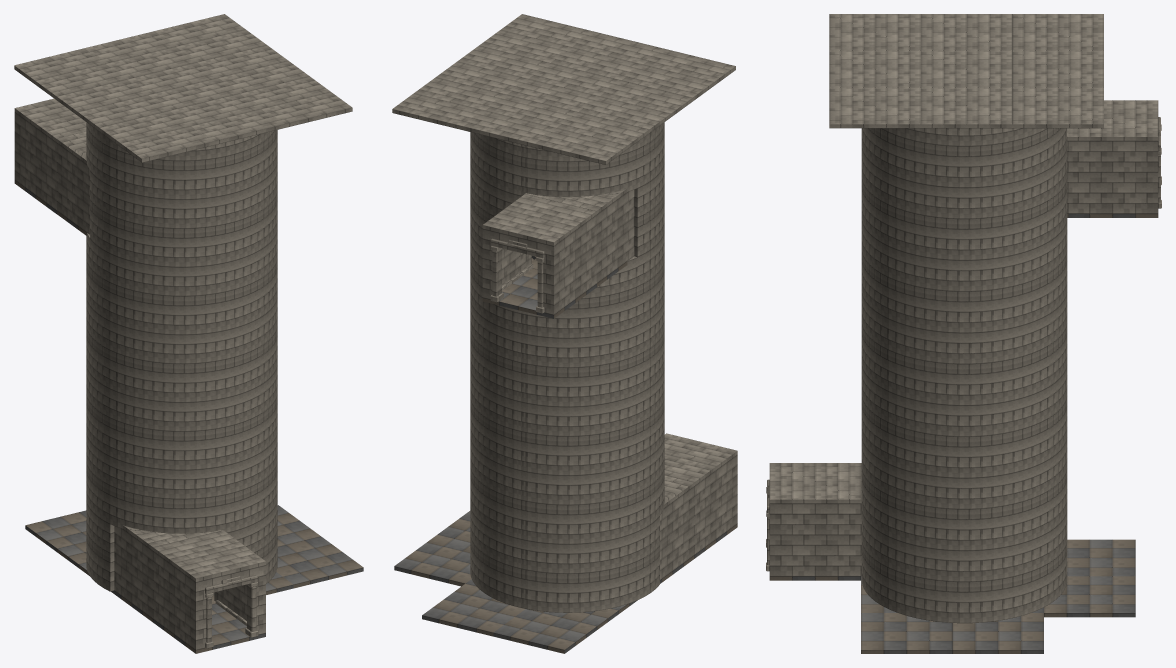
Rendered from MOD_SpiralStairs.fbx.
3 renders of one model, left to right at view 1: azimuth 30°, elevation 25°; view 2: azimuth 150°, elevation 25°; view 3: azimuth 270°, elevation 25°, orthographic. The views are drawn at different scales.
Visible parts, largest first — view 1: Portal_Side_L.003, Floor.011, Floor.002, Floor.010, Floor.001, Wall.004, Ceiling, Wall, Wall.005, Floor.005, Floor.009, Floor (+3 smaller); view 2: Portal_Side_L.003, Floor.001, Floor.002, Floor.011, Floor.010, Wall.005, Floor.009, Wall.004, Wall, Floor.008, Floor.006, Ceiling (+1 smaller); view 3: Portal_Side_L.003, Floor.002, Floor.011, Floor.010, Floor.001, Wall.001, Ceiling, Floor.005, Floor.008, Floor.006, Floor.009.
Part boxes in pixels (<box>): Portal_Side_L.003: <box>86,122,277,591</box>; Floor.011: <box>99,76,352,162</box>; Floor.002: <box>14,14,266,100</box>; Floor.010: <box>57,45,309,130</box>; Floor.001: <box>14,98,86,214</box>; Wall.004: <box>111,525,222,622</box>; Ceiling: <box>153,530,265,582</box>; Wall: <box>153,551,201,649</box>; Wall.005: <box>57,131,89,235</box>; Floor.005: <box>276,536,363,588</box>; Floor.009: <box>25,510,86,559</box>; Floor: <box>153,603,265,653</box>; Portal_Side_L.003: <box>470,122,664,612</box>; Floor.001: <box>482,194,596,318</box>; Floor.002: <box>392,77,649,164</box>; Floor.011: <box>479,14,735,101</box>; Floor.010: <box>436,46,692,132</box>; Wall.005: <box>525,188,634,286</box>; Floor.009: <box>493,609,607,653</box>; Wall.004: <box>660,475,694,583</box>; Wall: <box>694,455,737,554</box>; Floor.008: <box>422,583,525,636</box>; Floor.006: <box>394,534,471,586</box>; Ceiling: <box>664,433,737,485</box>; Portal_Side_L.003: <box>861,128,1067,623</box>; Floor.002: <box>1012,14,1103,128</box>; Floor.011: <box>829,14,920,128</box>; Floor.010: <box>921,14,1012,128</box>; Floor.001: <box>1067,100,1161,217</box>; Wall.001: <box>769,503,860,576</box>; Ceiling: <box>769,463,860,503</box>; Floor.005: <box>861,613,952,653</box>; Floor.008: <box>1044,576,1135,617</box>; Floor.006: <box>952,613,1043,653</box>; Floor.009: <box>1067,539,1135,576</box>.
Bounding box in the file's own units: 1281 × 2489 × 1729.
